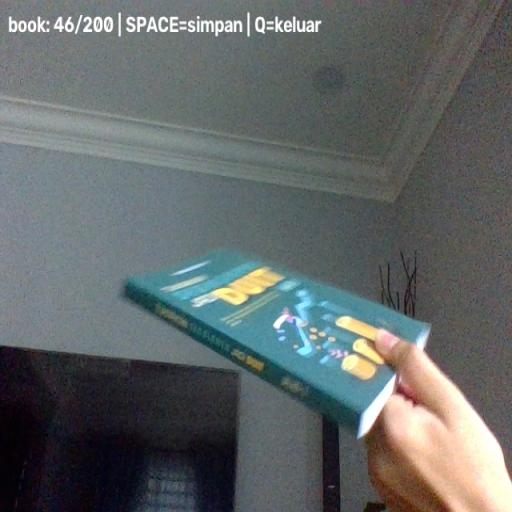Book: (122, 250, 432, 440)
